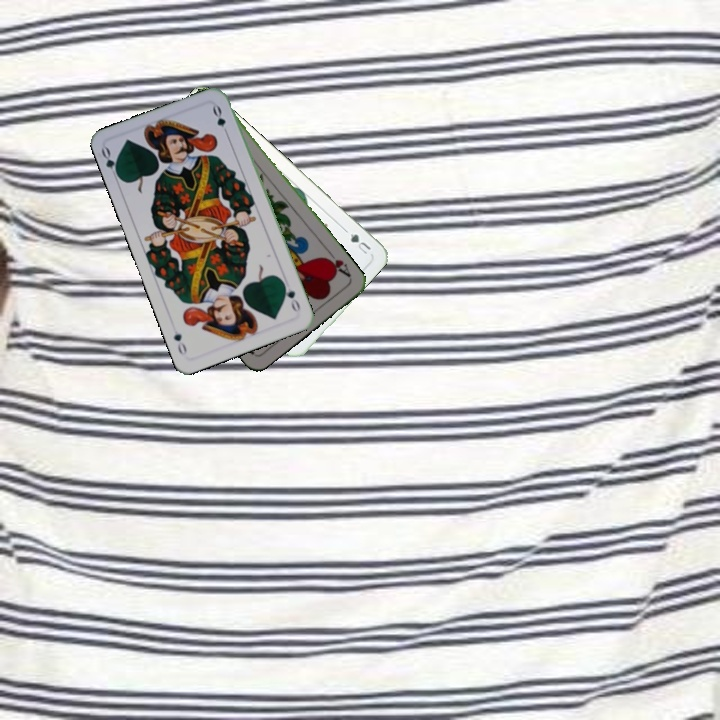GO: (97, 143, 123, 183), (279, 278, 303, 316)
GU: (346, 229, 374, 257)
HA: (320, 247, 354, 280)
